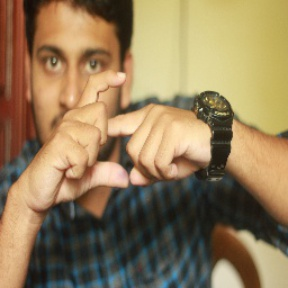E: (68, 66, 152, 189)
